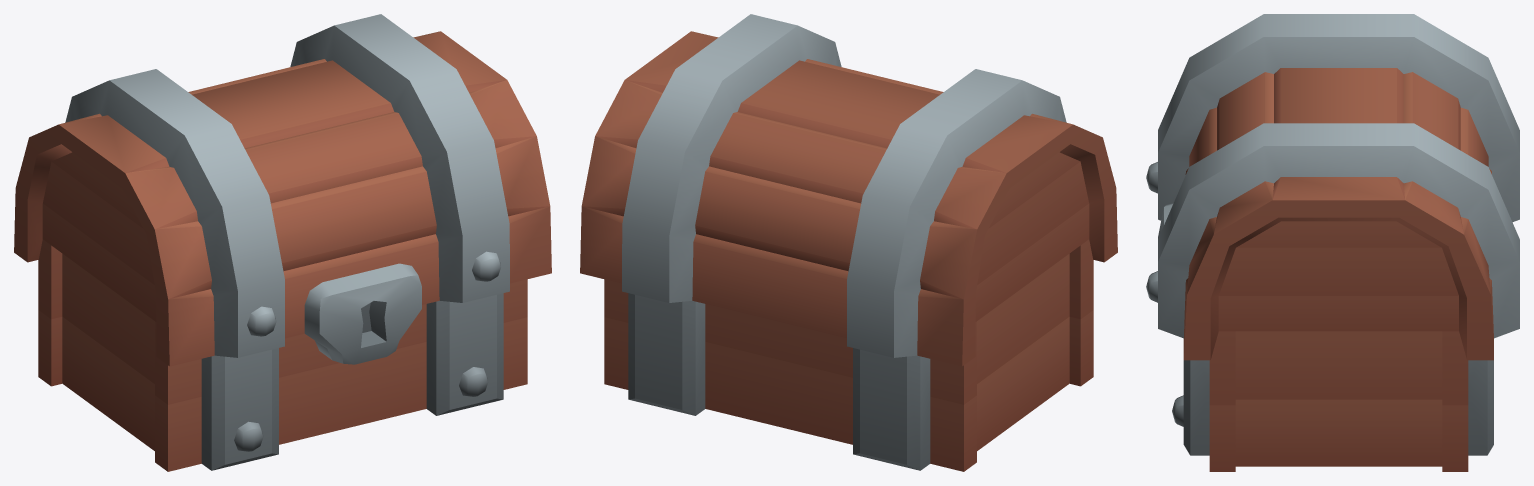
Rendered from ChestGold.glb.
3 views of the same model, side by side, from view 1: azimuth 30°, elevation 25°; view 2: azimuth 150°, elevation 25°; view 3: azimuth 270°, elevation 25° (orthographic).
Visible parts, largest first — view 1: chest_gold_lid, chest_gold; view 2: chest_gold_lid, chest_gold; view 3: chest_gold_lid, chest_gold.
Boxes of the visible parts, x1,y1,x2,y2 form: chest_gold_lid: [14, 14, 551, 366]; chest_gold: [38, 239, 527, 471]; chest_gold_lid: [580, 14, 1117, 366]; chest_gold: [604, 239, 1093, 471]; chest_gold_lid: [1146, 14, 1519, 360]; chest_gold: [1172, 331, 1493, 471].
Bounding box in the file's own units: 1.7 × 1.3 × 1.45.
Materials: 1 (1 with a texture image).
